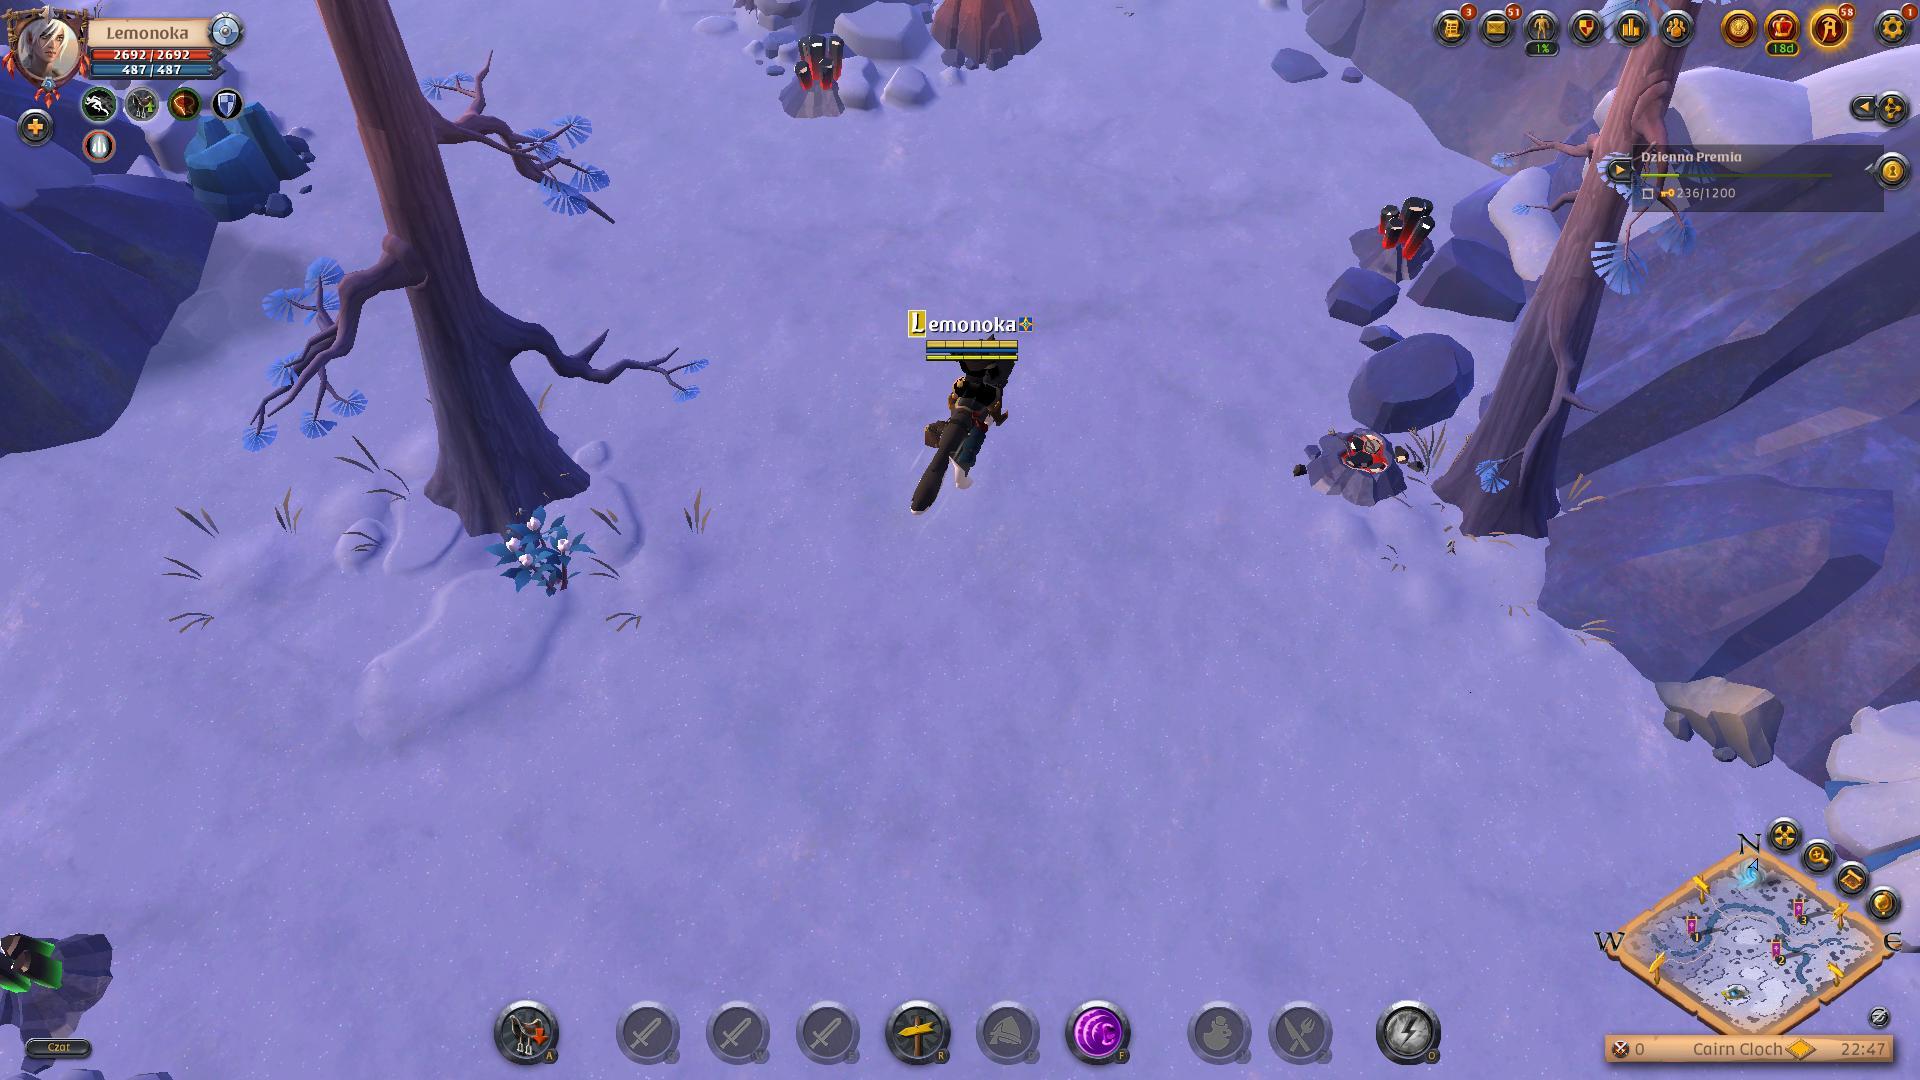ore tier 3: (0, 923, 116, 1033)
ore tier 5: (1354, 191, 1445, 284), (775, 28, 852, 119)
